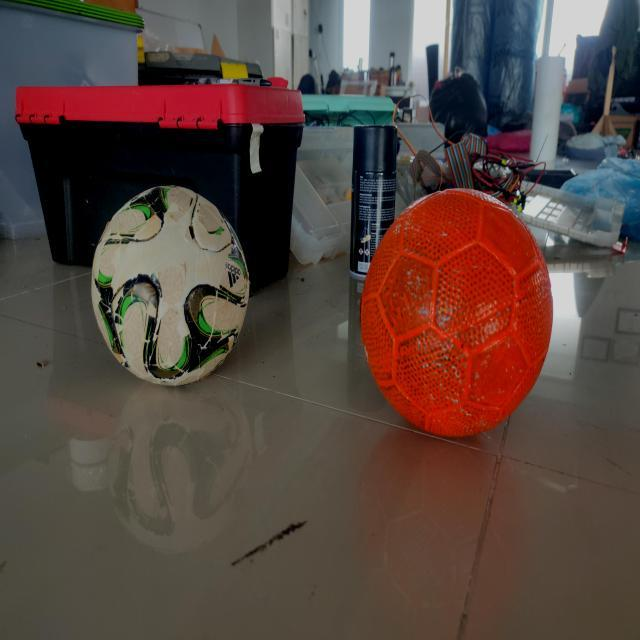bola: (356, 185, 556, 446)
